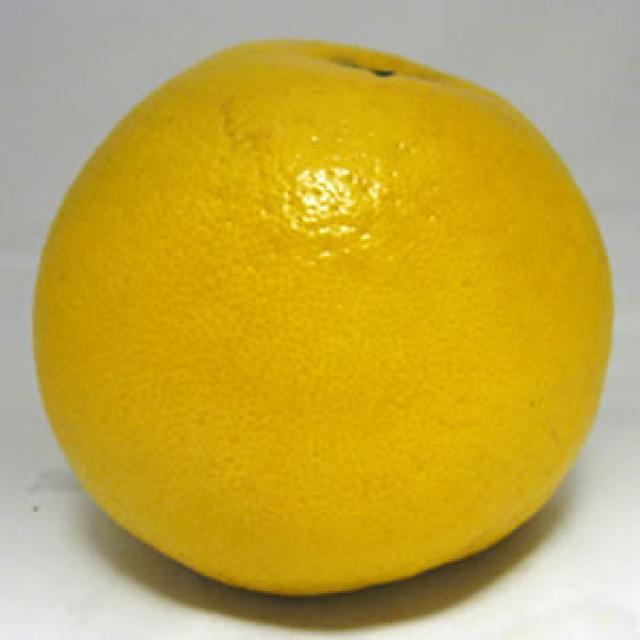Orange: (35, 36, 621, 600)
